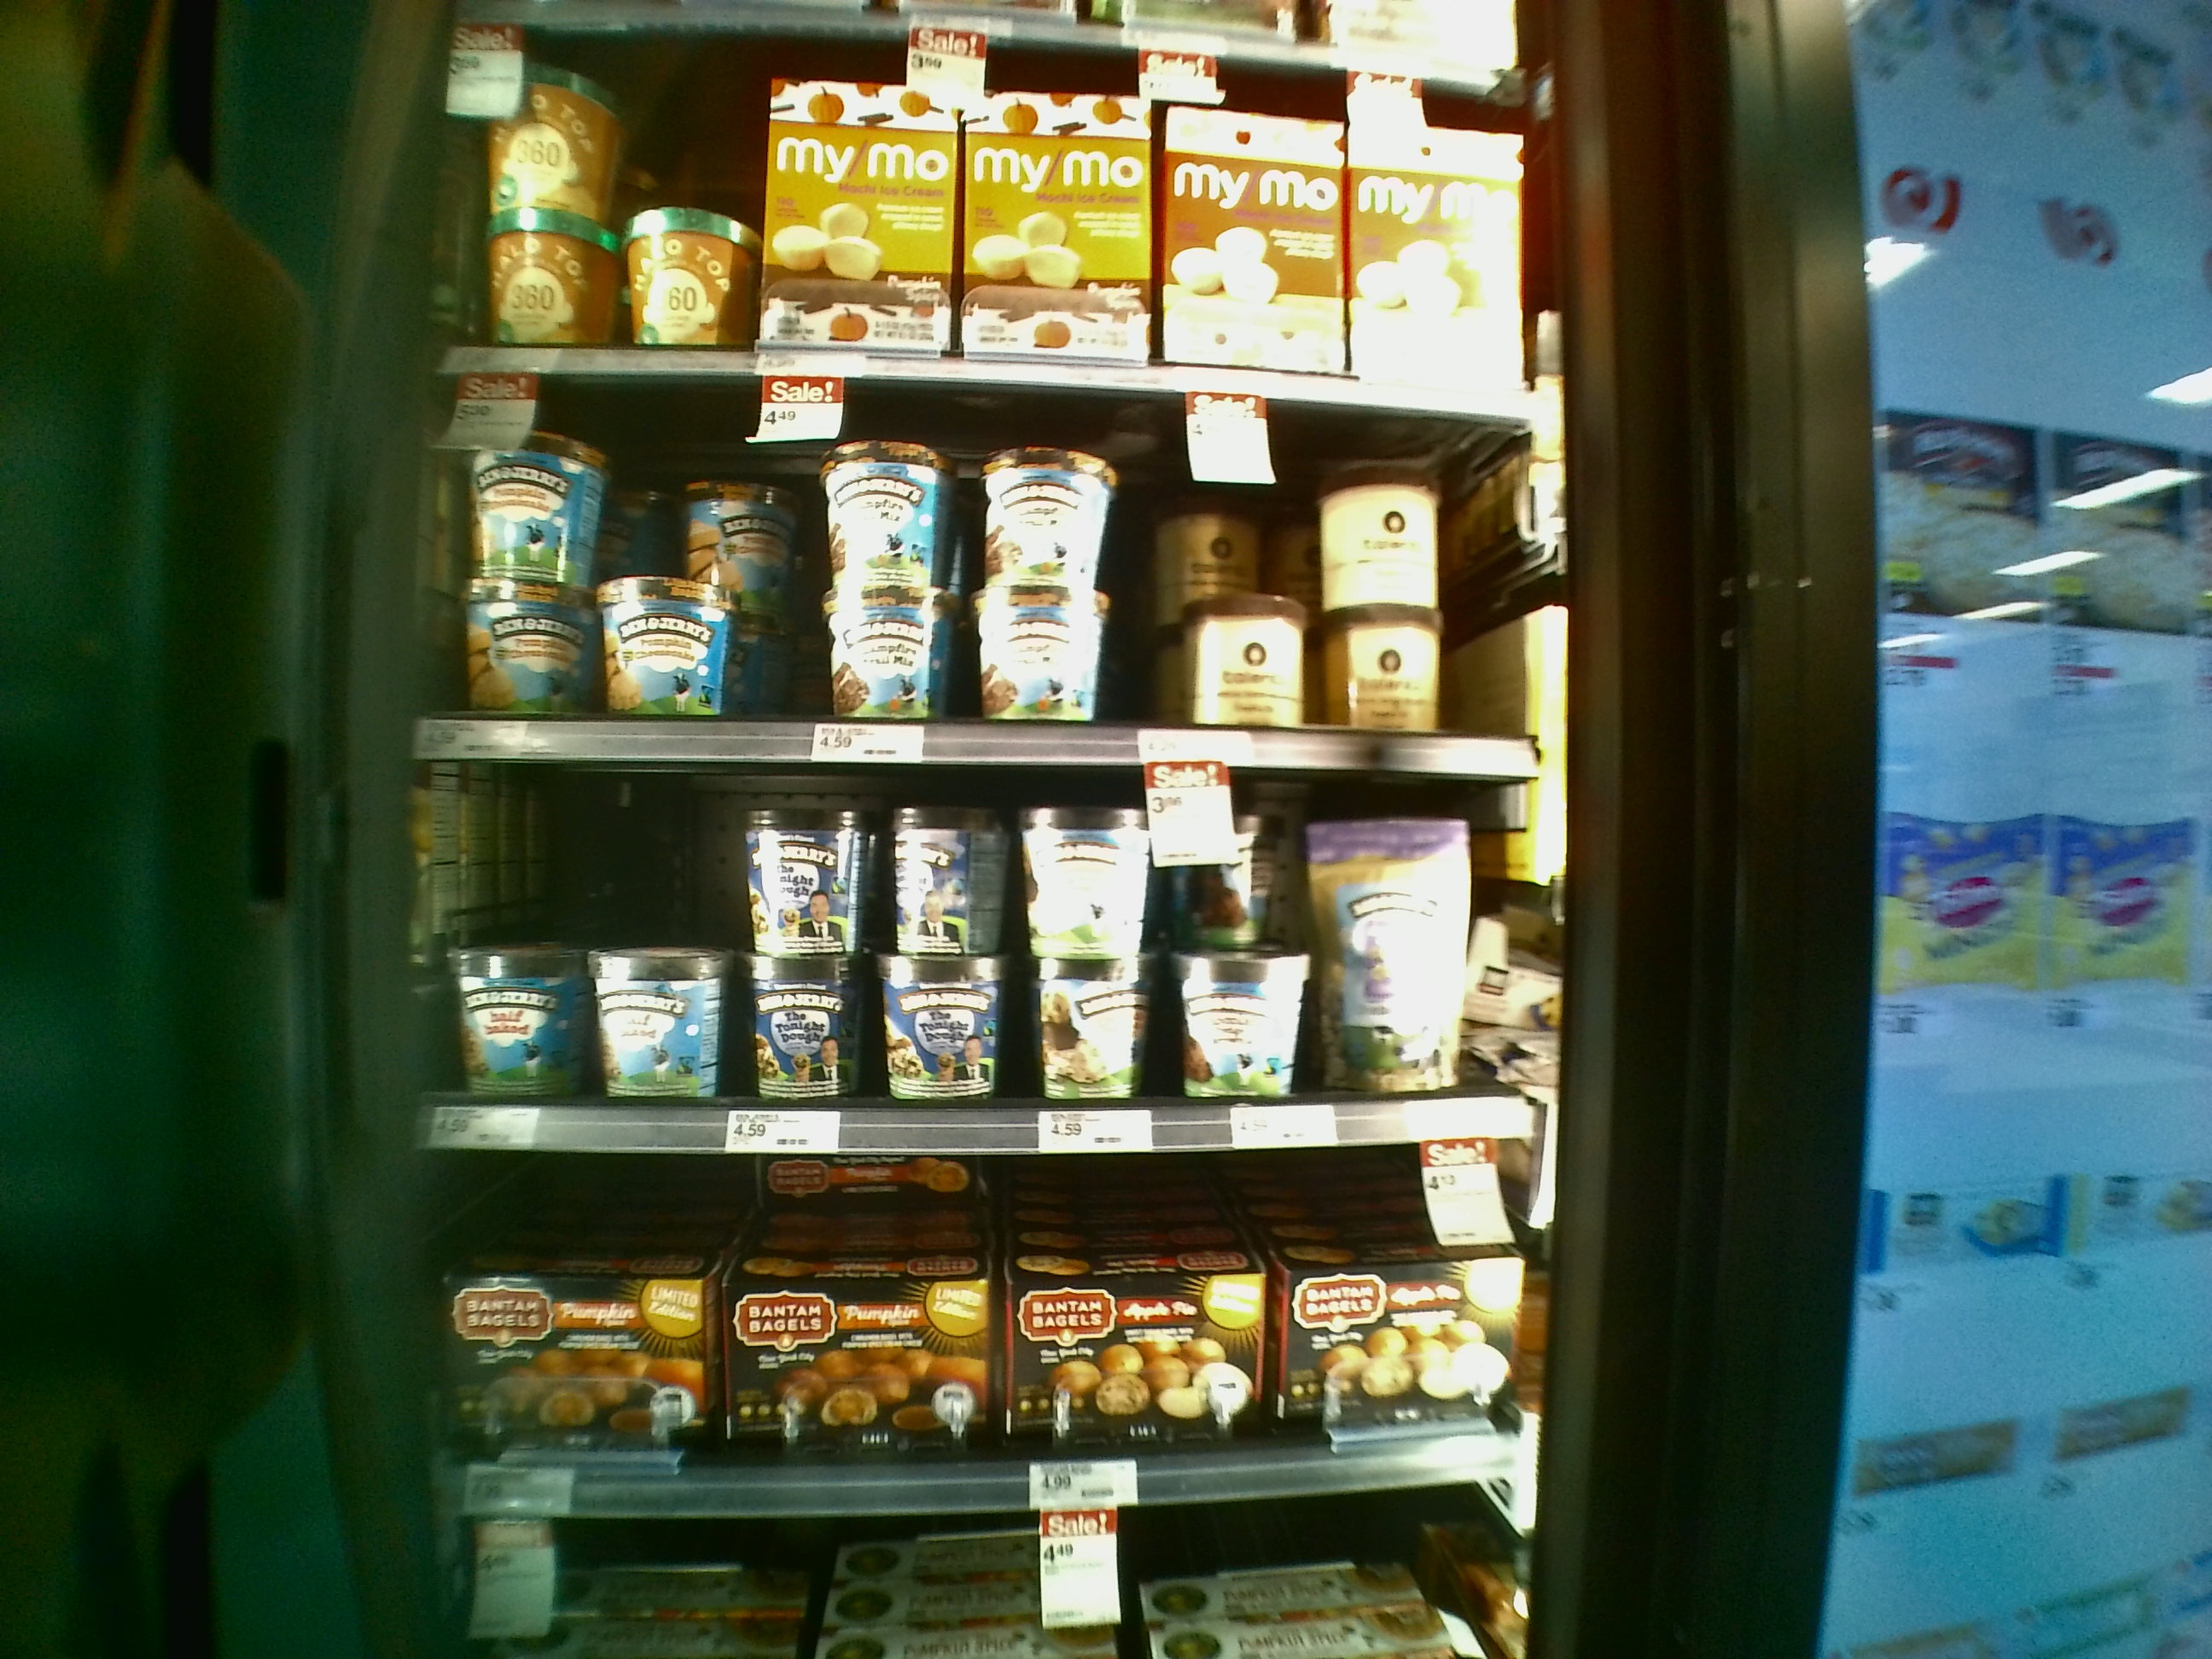shelf: (402, 364, 1569, 781), (404, 746, 1548, 1157), (408, 1122, 1569, 1481)
